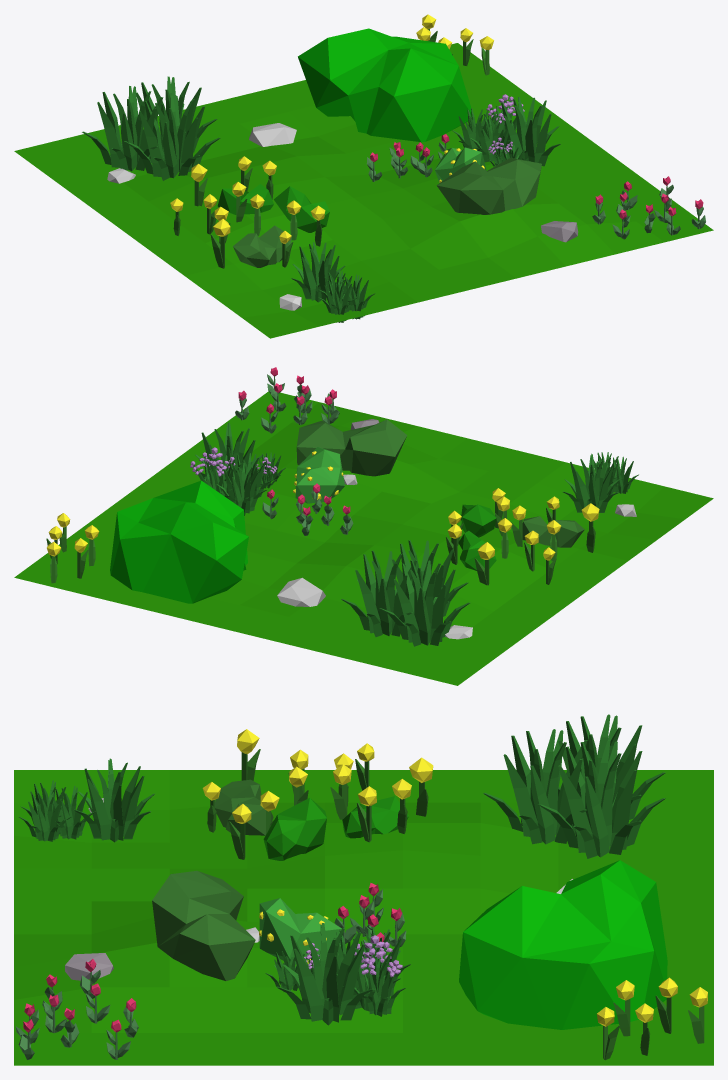
Rendered from MEADOW_FIELD03.fbx.
The picture shows the model from 3 angles, top to bottom: view 1: azimuth 30°, elevation 25°; view 2: azimuth 150°, elevation 25°; view 3: azimuth 270°, elevation 25°; orthographic projection. The views are drawn at different scales.
Parts seen in each view (by area): view 1: Grid.003, Icosphere.034, Cylinder.131, Icosphere.021, Cylinder.008, Cylinder.111, Cylinder.125, Icosphere.028, Cylinder.124, Plane.099, Plane.100, Plane.112 (+3 smaller); view 2: Grid.003, Icosphere.034, Cylinder.131, Icosphere.021, Plane.100, Cylinder.111, Cylinder.125, Icosphere.028, Cylinder.008, Icosphere.004, Plane.099, Cylinder.124 (+3 smaller); view 3: Grid.003, Icosphere.034, Cylinder.131, Icosphere.021, Cylinder.008, Cylinder.125, Plane.100, Plane.099, Cylinder.124, Cylinder.112, Icosphere.028, Cylinder.111 (+14 smaller).
Part boxes in pixels (x1,y1,x2,y2): Grid.003: (14, 43, 713, 338); Icosphere.034: (298, 28, 471, 142); Cylinder.131: (82, 76, 220, 180); Icosphere.021: (436, 157, 541, 214); Cylinder.008: (491, 97, 560, 166); Cylinder.111: (452, 106, 516, 162); Cylinder.125: (291, 242, 345, 302); Icosphere.028: (233, 225, 291, 267); Cylinder.124: (318, 270, 375, 322); Plane.099: (274, 186, 329, 232); Plane.100: (435, 147, 486, 182); Plane.112: (217, 184, 273, 214); Grid.003: (14, 391, 713, 685); Icosphere.034: (110, 480, 248, 603); Cylinder.131: (341, 540, 470, 646); Icosphere.021: (296, 419, 407, 476); Plane.100: (293, 447, 344, 503); Cylinder.111: (204, 453, 273, 515); Cylinder.125: (563, 453, 619, 512); Icosphere.028: (522, 516, 584, 547); Cylinder.008: (195, 422, 263, 481); Icosphere.004: (277, 577, 325, 606); Plane.099: (461, 504, 496, 537); Cylinder.124: (588, 452, 638, 496); Grid.003: (14, 770, 713, 1065); Icosphere.034: (459, 860, 667, 1029); Cylinder.131: (483, 714, 665, 858); Icosphere.021: (152, 870, 255, 980); Cylinder.008: (276, 923, 373, 1025); Cylinder.125: (73, 758, 154, 842); Plane.100: (259, 898, 341, 964); Plane.099: (263, 798, 326, 860); Cylinder.124: (19, 780, 95, 841); Cylinder.112: (354, 935, 405, 1016); Icosphere.028: (215, 779, 273, 835); Cylinder.111: (333, 927, 410, 1009).
Size of the model in its own units: 1000 by 239 by 1000.
